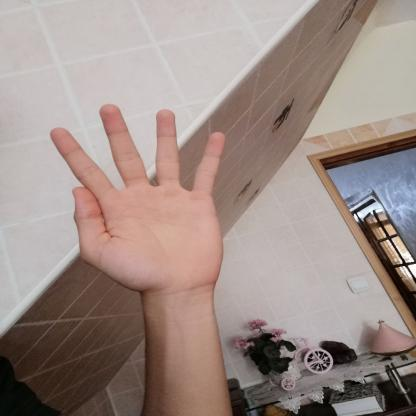SHEEN: (39, 95, 251, 303)
